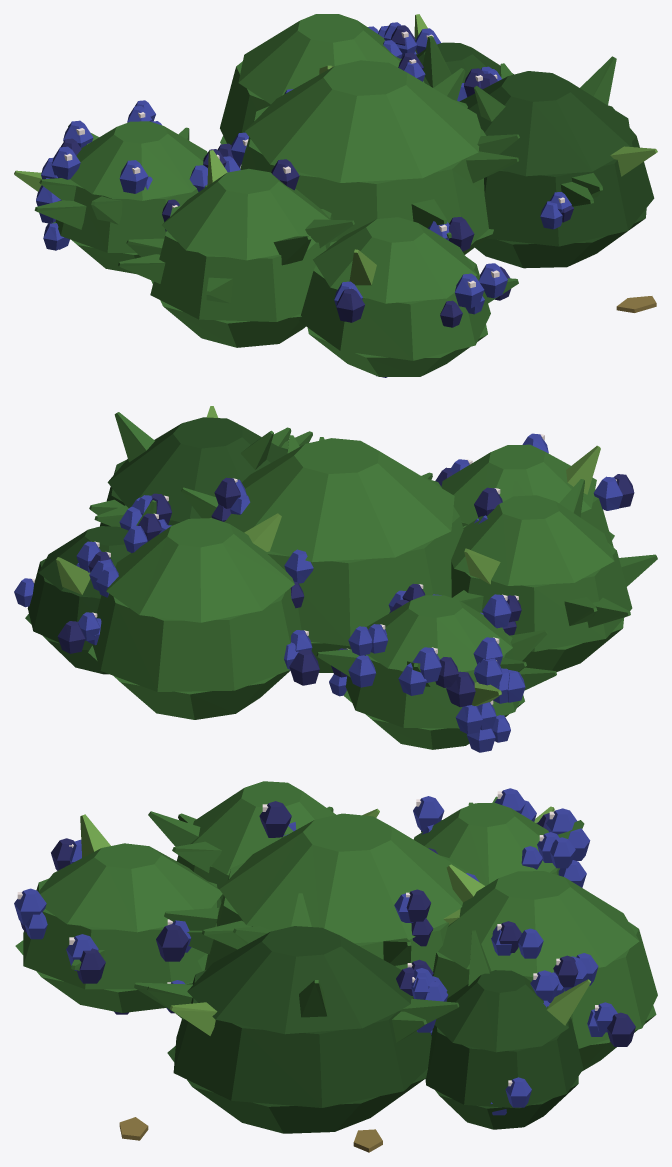
The model's file is berry_bush_3.obj.
3 renders of one model, top to bottom at view 1: azimuth 30°, elevation 25°; view 2: azimuth 150°, elevation 25°; view 3: azimuth 270°, elevation 25°, orthographic. The views are drawn at different scales.
Parts seen in each view (by area): view 1: Leaves, Leaf, Berry, Berry.Shine; view 2: Leaves, Berry, Leaf; view 3: Leaves, Berry, Leaf, Fallen.Leaf, Berry.Shine.
Boxes of the visible parts, x1,y1,x2,y2 form: Leaves: [51, 14, 654, 376]; Leaf: [14, 14, 657, 305]; Berry: [36, 22, 573, 377]; Berry.Shine: [64, 31, 564, 287]; Leaves: [25, 417, 632, 749]; Berry: [14, 433, 634, 752]; Leaf: [56, 406, 657, 705]; Leaves: [15, 781, 657, 1133]; Berry: [14, 788, 635, 1115]; Leaf: [71, 796, 590, 1042]; Fallen.Leaf: [119, 1117, 382, 1152]; Berry.Shine: [17, 791, 599, 1086].
Size of the model in its own units: 2.1 by 0.759 by 2.1.
